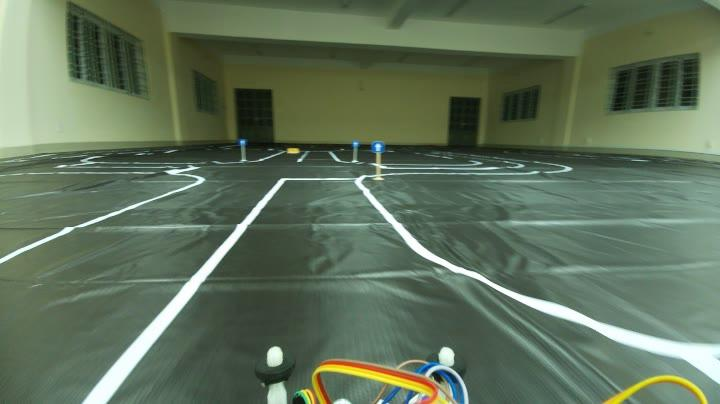onewayroad: (370, 139, 385, 154), (238, 136, 247, 146), (350, 136, 357, 148)
roadblock: (286, 145, 300, 158)
